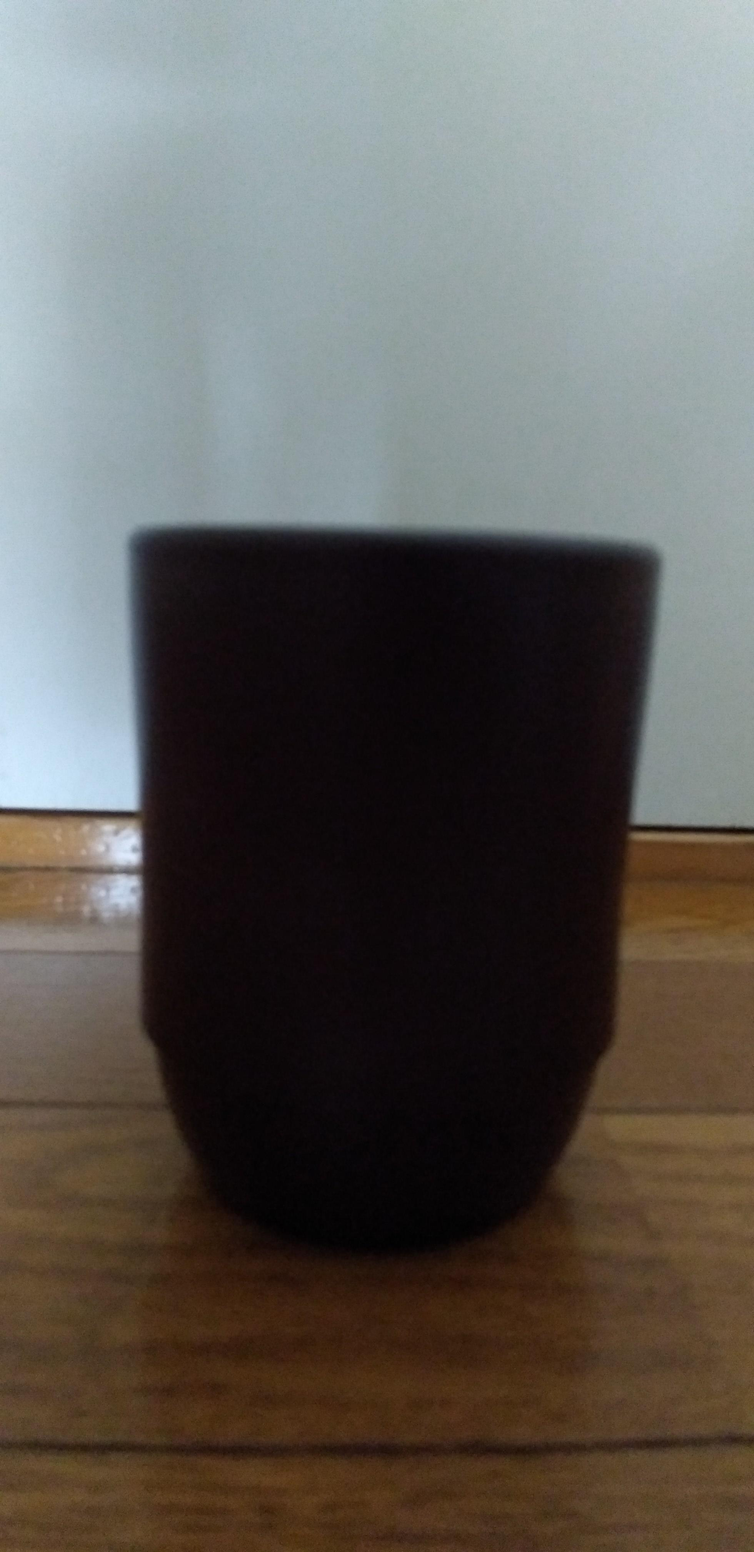mug-real100-3d100: (130, 528, 660, 1251)
